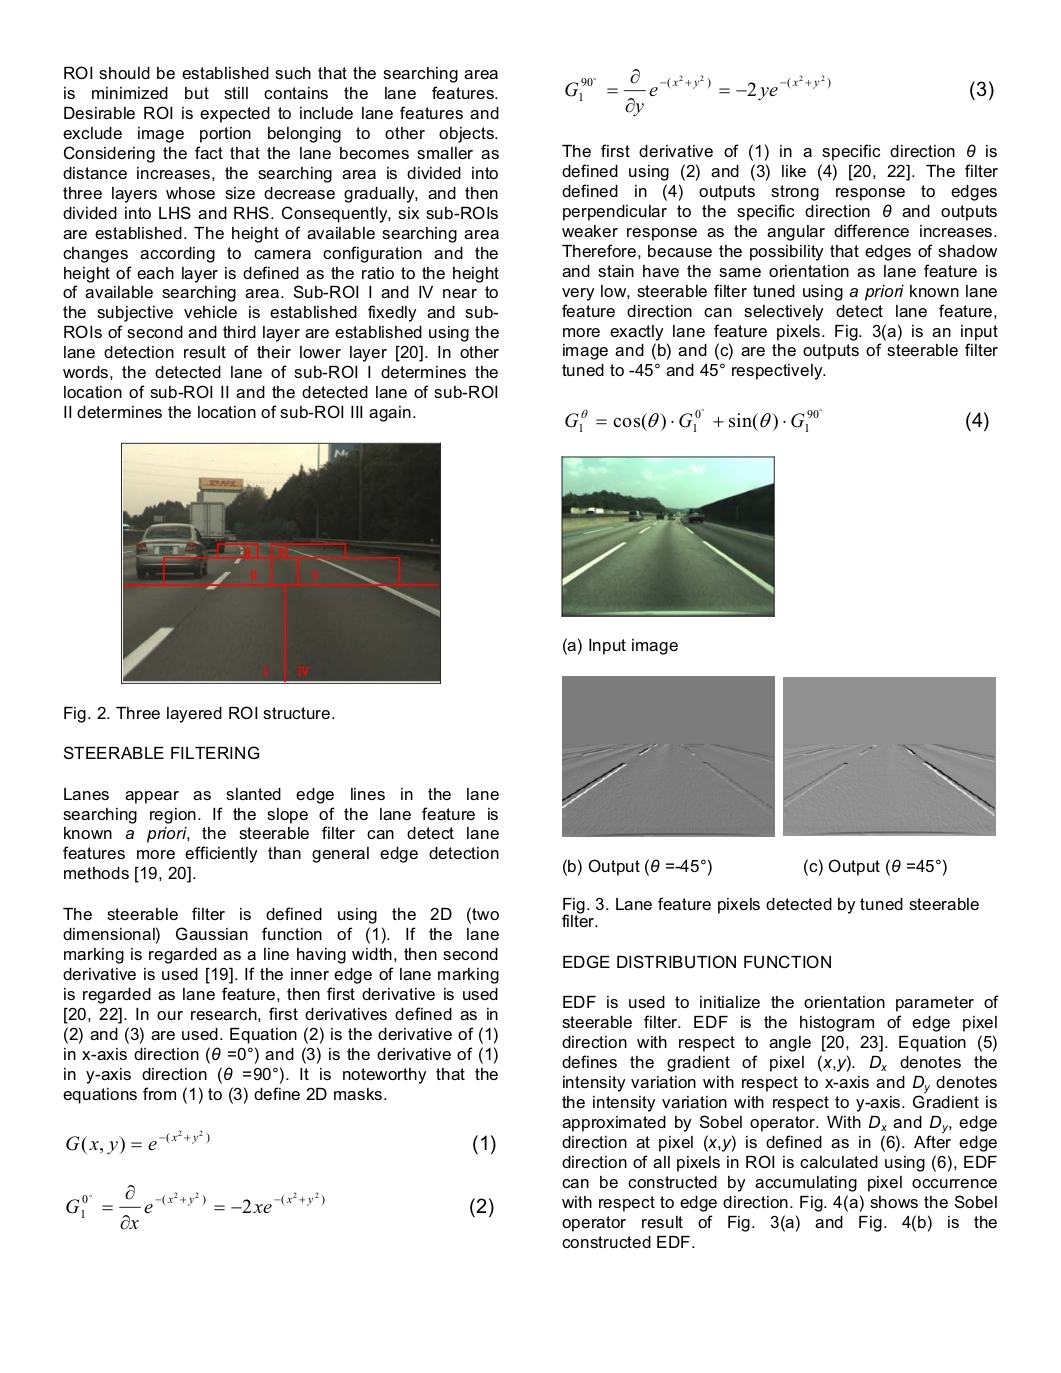figure: (121, 441, 440, 684), (561, 455, 773, 617), (562, 676, 773, 836), (783, 676, 995, 835)
formula: (565, 68, 993, 117), (66, 1184, 493, 1230), (66, 1129, 495, 1155), (565, 407, 987, 432), (563, 858, 946, 876)
